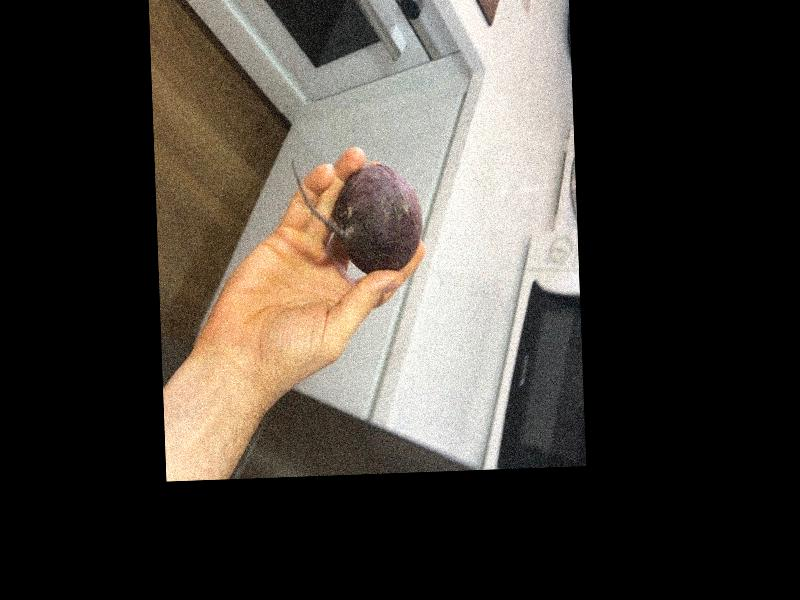Beet: (290, 152, 424, 275)
